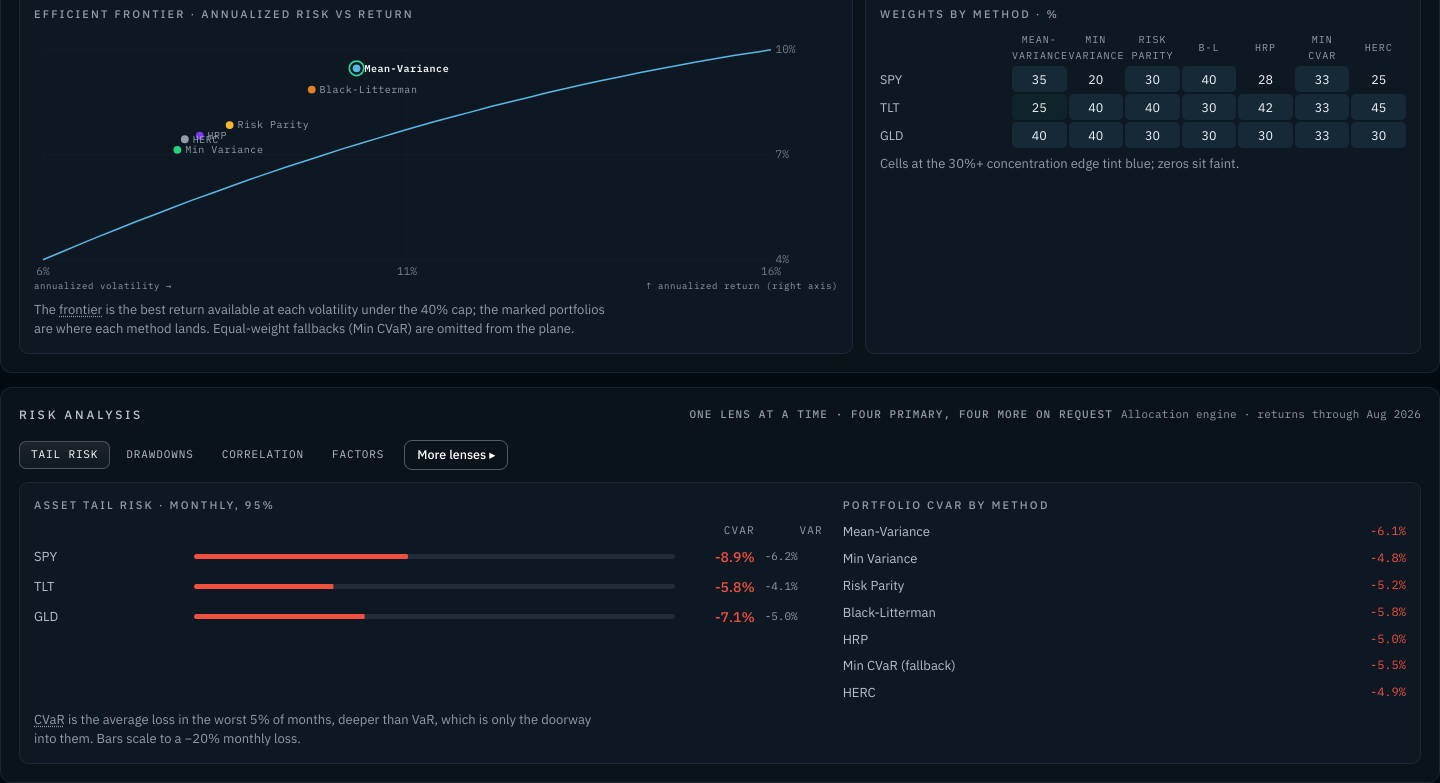
Test: RiskLenses (checklist 09 E.1 row 9) › StateNotes: an absent correlation regime
The width and height of the screenshot is (1440, 783).
(page scrolled)
Expected: the element with id "allocation-risk" is shown, [0, 387, 1439, 782]
Expected: the element named "Risk lens" is shown, [19, 441, 396, 469]
Click the button "Correlation" at (263, 455), box [210, 441, 316, 469]
(page scrolled)
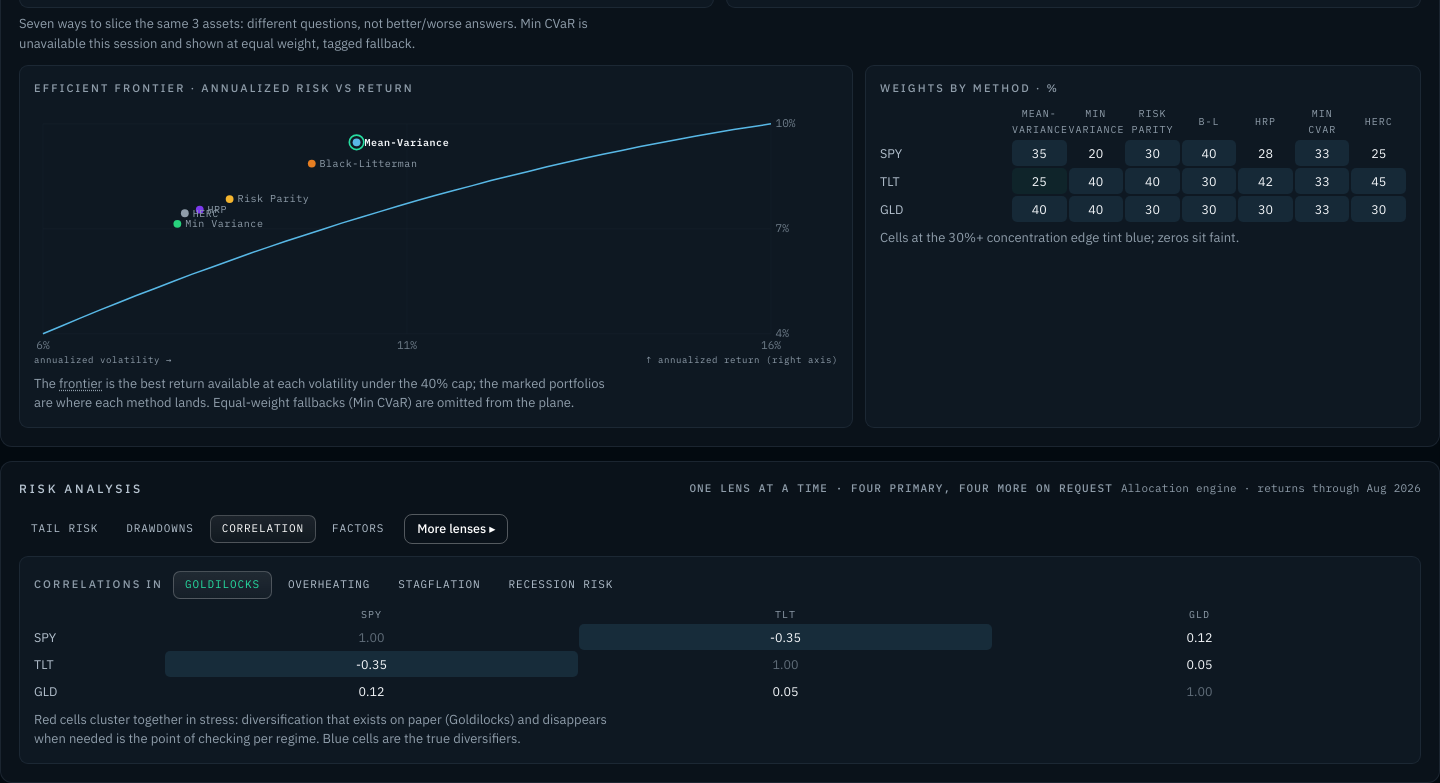
Click the button "Overheating" at (329, 585), box [276, 571, 382, 599]
(page scrolled)
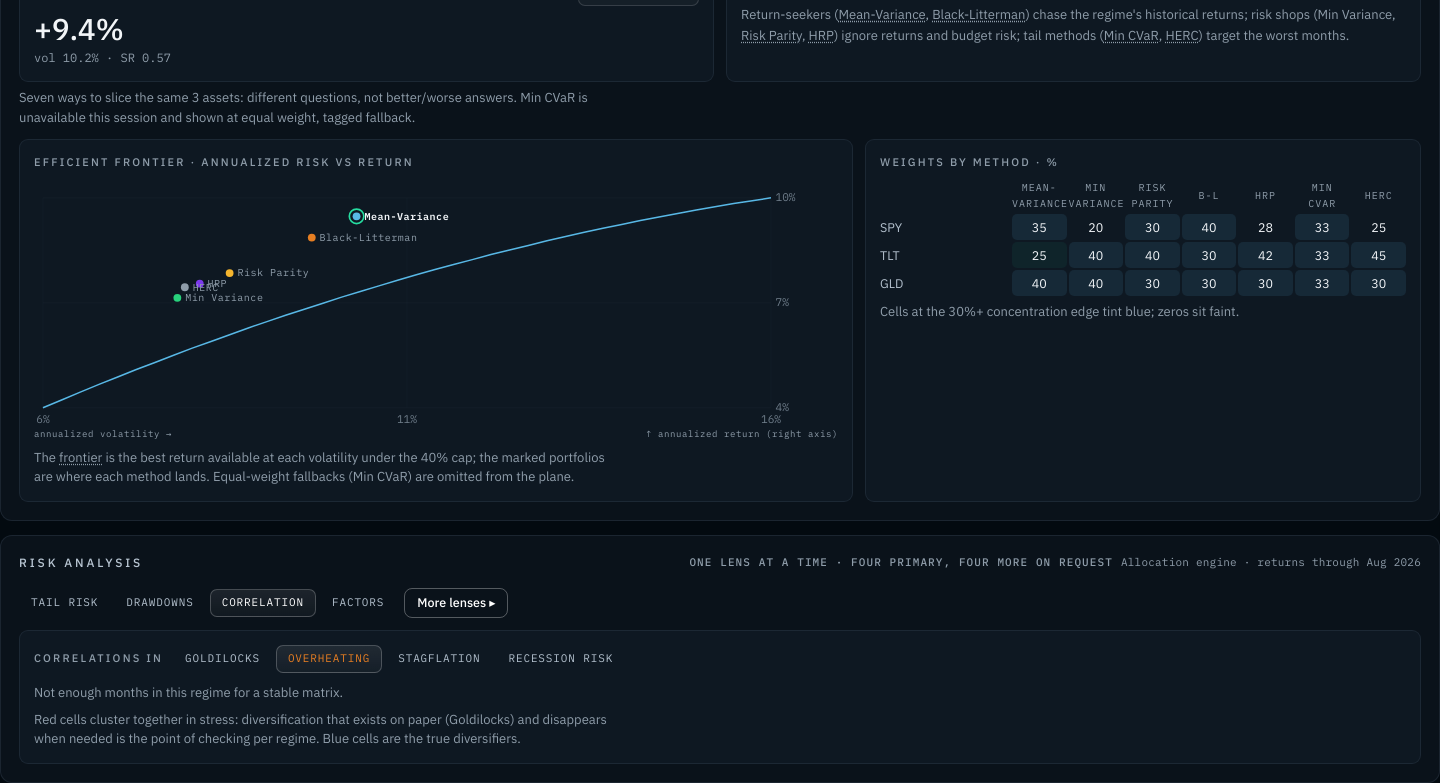
Now the element with id "allocation-risk" shows "Not enough months in this regime for a stable matrix.", box [34, 684, 343, 701]
